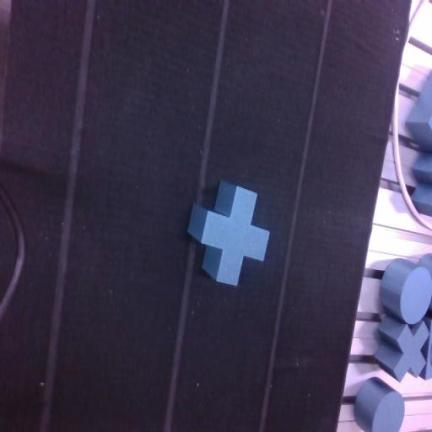cross: (189, 181, 269, 286), (375, 317, 429, 381)
